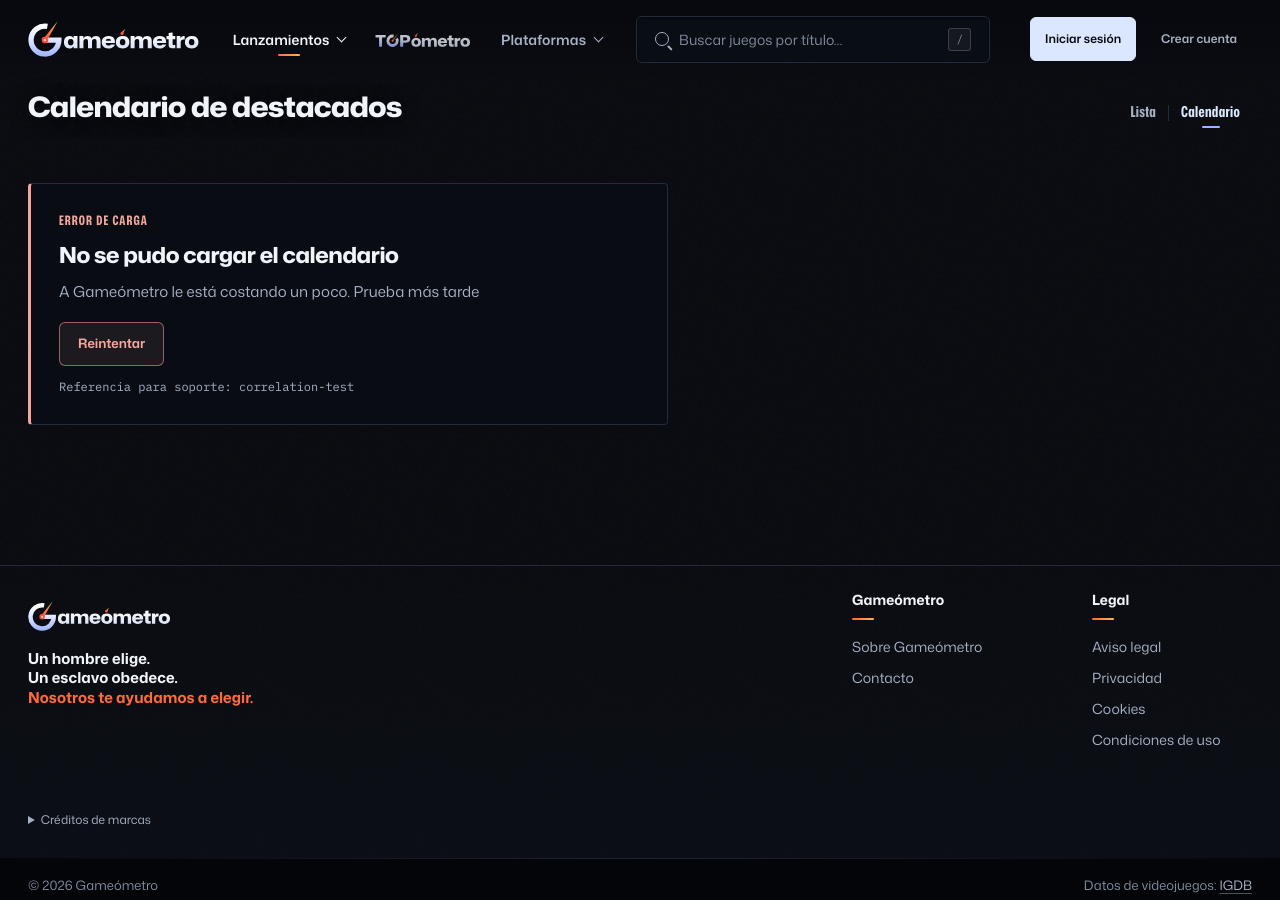
Test case: release calendar page › explains a failed read with its support reference and retries it
Check: the heading "No se pudo cargar el calendario" is shown, box x1=59 y1=242 x2=398 y2=268
Check: the text "Referencia para soporte: correlation-test" is shown, box x1=59 y1=378 x2=354 y2=396
Click the button "Reintentar" at (112, 344), box x1=59 y1=322 x2=164 y2=366
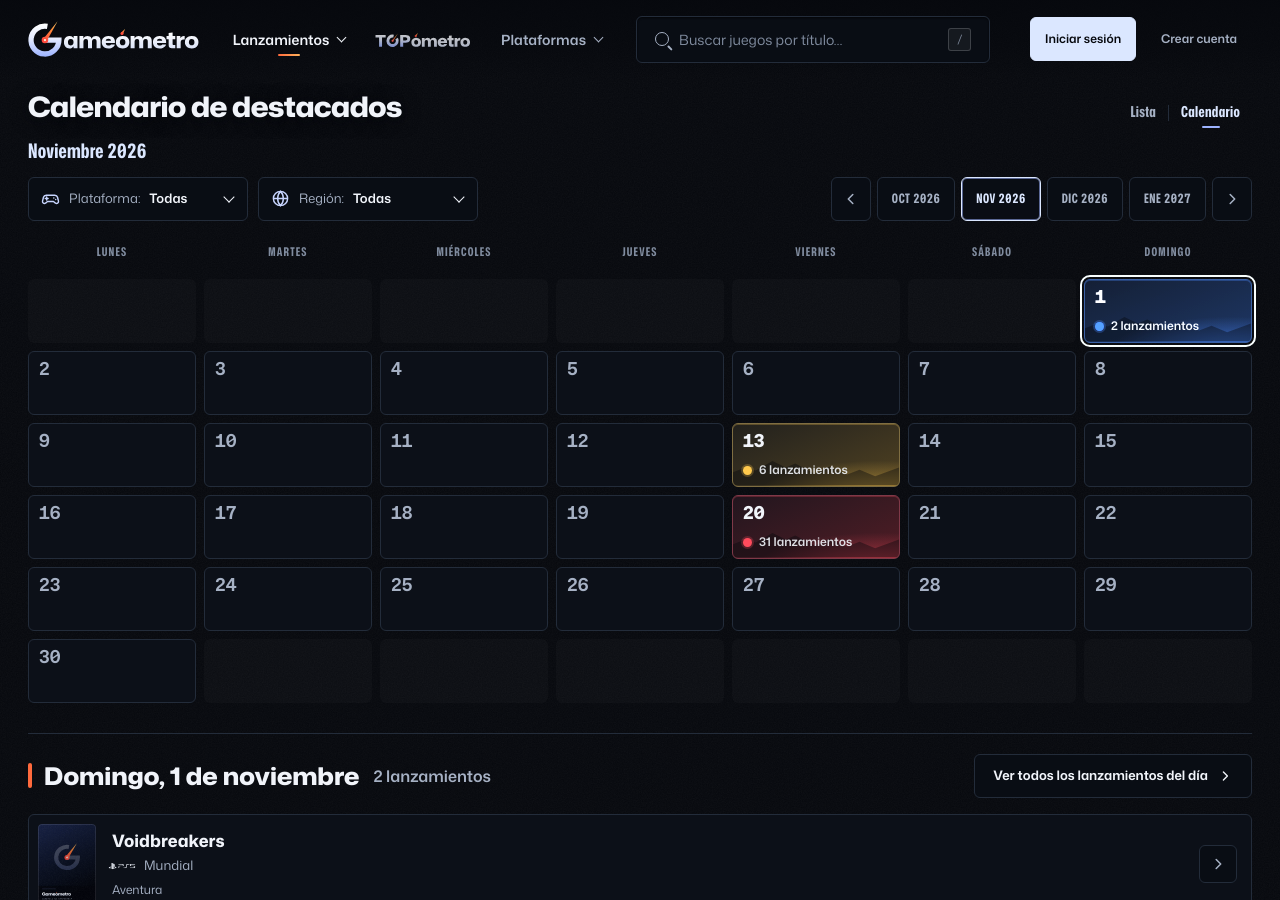
Check: the table named "Lanzamientos de Noviembre 2026" is shown, box x1=20 y1=234 x2=1260 y2=710
